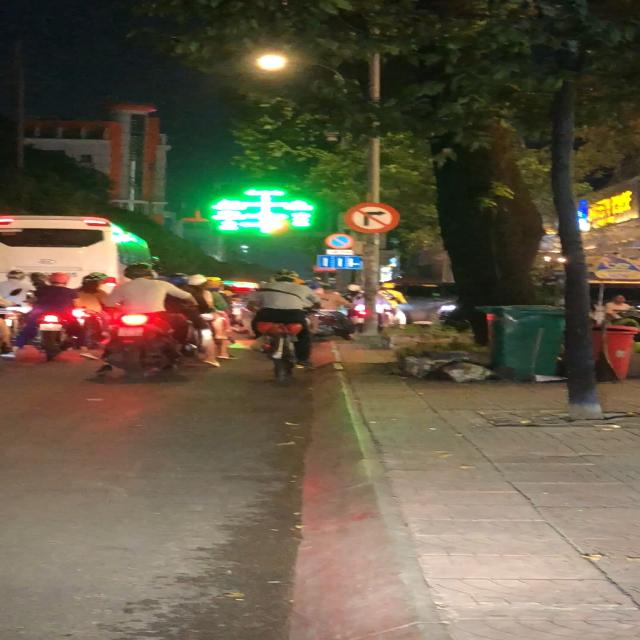Bien bao cam do xe: (322, 230, 357, 250)
Bien bao cam re phai: (341, 201, 401, 235)
